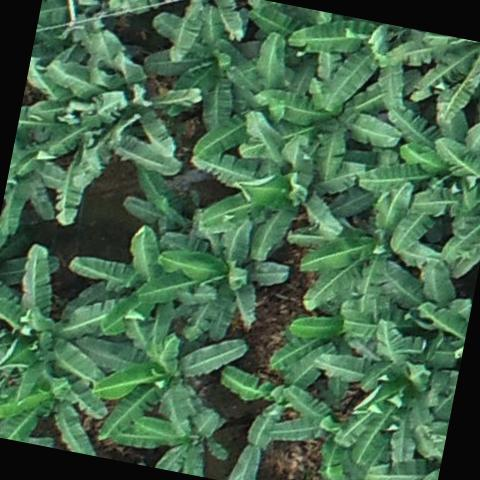Banana-plant: (298, 308, 466, 480), (33, 26, 198, 197), (85, 308, 250, 469), (245, 45, 414, 201), (176, 135, 356, 276), (295, 170, 444, 336), (0, 240, 127, 420), (147, 208, 297, 356), (270, 5, 428, 126), (61, 216, 196, 350), (134, 0, 271, 129), (207, 324, 338, 458), (358, 90, 480, 229), (0, 102, 81, 249), (110, 392, 235, 480), (0, 370, 110, 457)
